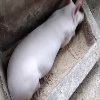heo: (4, 1, 85, 92)
